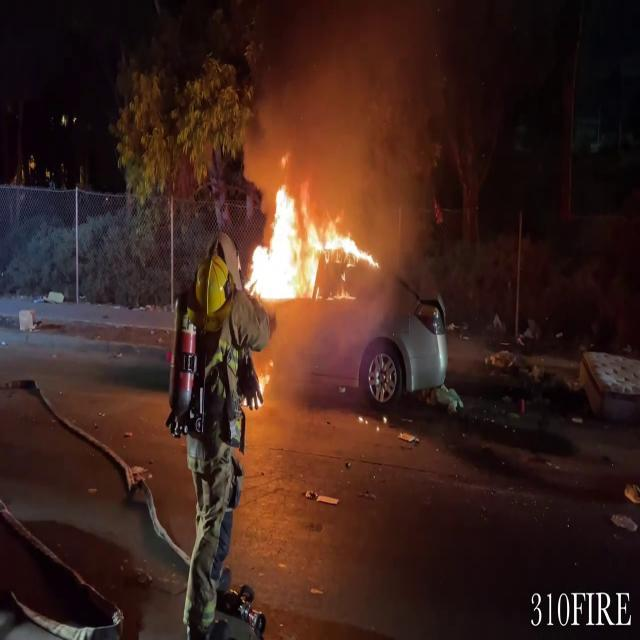Fire: (243, 173, 381, 304)
Smoke: (238, 0, 442, 199)
